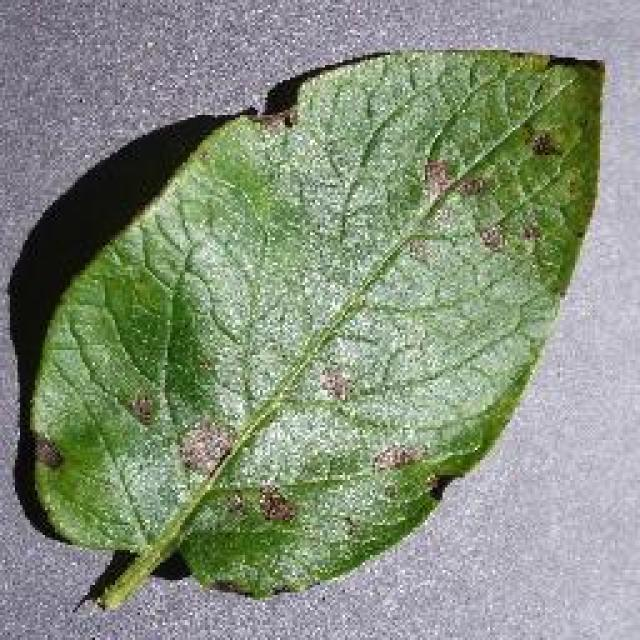early_blight: (15, 45, 607, 607)
